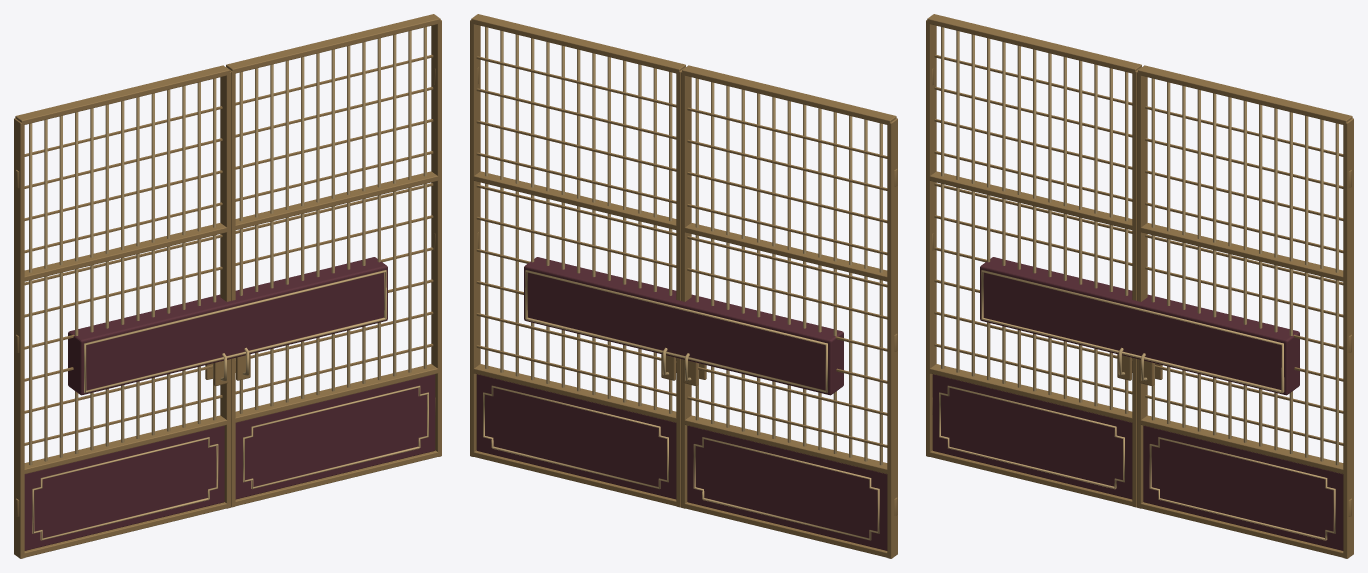
Rendered from casino-deco-gate-cashier.glb.
The picture shows the model from 3 angles, left to right: view 1: azimuth 30°, elevation 25°; view 2: azimuth 150°, elevation 25°; view 3: azimuth 330°, elevation 25°; orthographic projection.
Parts seen in each view (by area): view 1: gate-cashier / Entry smoky oxblood lacquer, gate-cashier / Entry aged bronze, gate-cashier / Entry champagne brass; view 2: gate-cashier / Entry smoky oxblood lacquer, gate-cashier / Entry aged bronze, gate-cashier / Entry champagne brass; view 3: gate-cashier / Entry smoky oxblood lacquer, gate-cashier / Entry aged bronze, gate-cashier / Entry champagne brass.
Part boxes in pixels (x1,y1,x2,y2): gate-cashier / Entry smoky oxblood lacquer: (24, 257, 435, 550); gate-cashier / Entry aged bronze: (14, 14, 441, 558); gate-cashier / Entry champagne brass: (29, 27, 428, 540); gate-cashier / Entry smoky oxblood lacquer: (476, 257, 887, 550); gate-cashier / Entry aged bronze: (470, 14, 897, 558); gate-cashier / Entry champagne brass: (483, 27, 882, 540); gate-cashier / Entry smoky oxblood lacquer: (932, 257, 1343, 550); gate-cashier / Entry aged bronze: (926, 14, 1353, 558); gate-cashier / Entry champagne brass: (939, 27, 1338, 540).
Bounding box in the file's own units: 4.01 × 3.96 × 0.3013.
